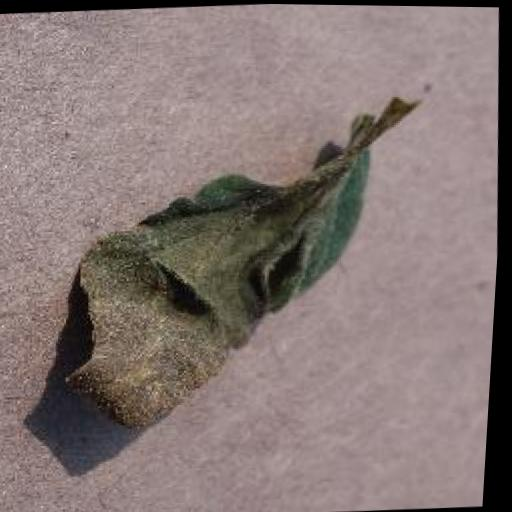Late Blight: (51, 138, 385, 432)
